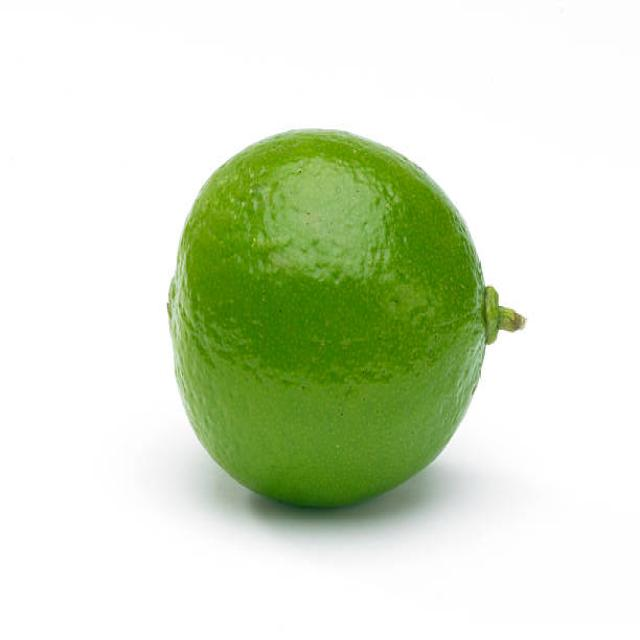Unripe: (166, 127, 487, 509)
